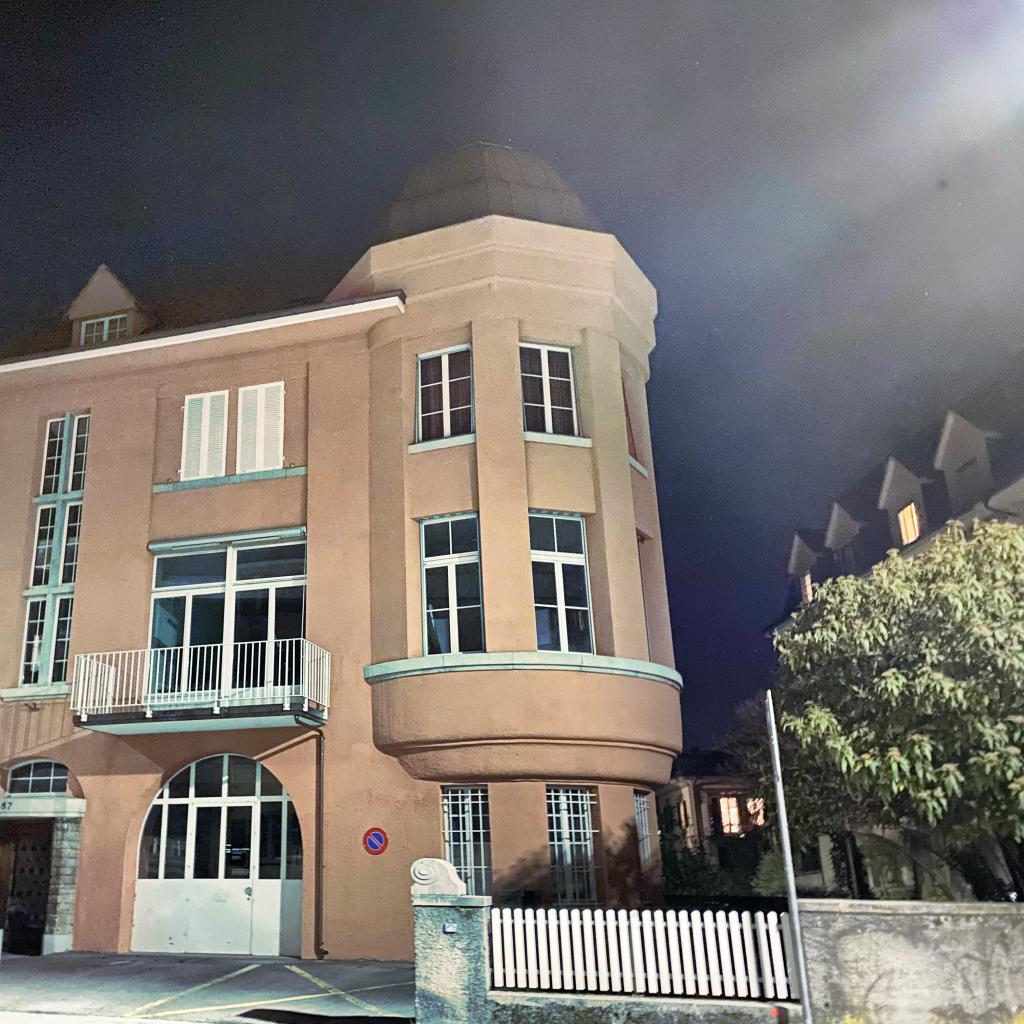balcony-fence: (69, 636, 333, 723)
facade: (0, 139, 1024, 1024), (783, 347, 1024, 611), (665, 774, 974, 892)
fence: (406, 856, 1024, 1024)
street: (0, 955, 412, 1024)
vegetation: (657, 513, 1024, 898)
window: (128, 752, 304, 958), (144, 540, 308, 694), (419, 511, 485, 656), (529, 513, 596, 655), (545, 785, 597, 906), (415, 342, 475, 444), (440, 783, 492, 896), (519, 342, 579, 437), (18, 594, 74, 687), (28, 501, 83, 588), (179, 389, 230, 482), (235, 380, 284, 476), (39, 414, 91, 496), (6, 758, 69, 796), (633, 793, 652, 866), (896, 501, 922, 548), (956, 462, 982, 501), (718, 797, 744, 835), (797, 836, 821, 876), (746, 796, 764, 826), (841, 543, 853, 566), (804, 572, 813, 602)
